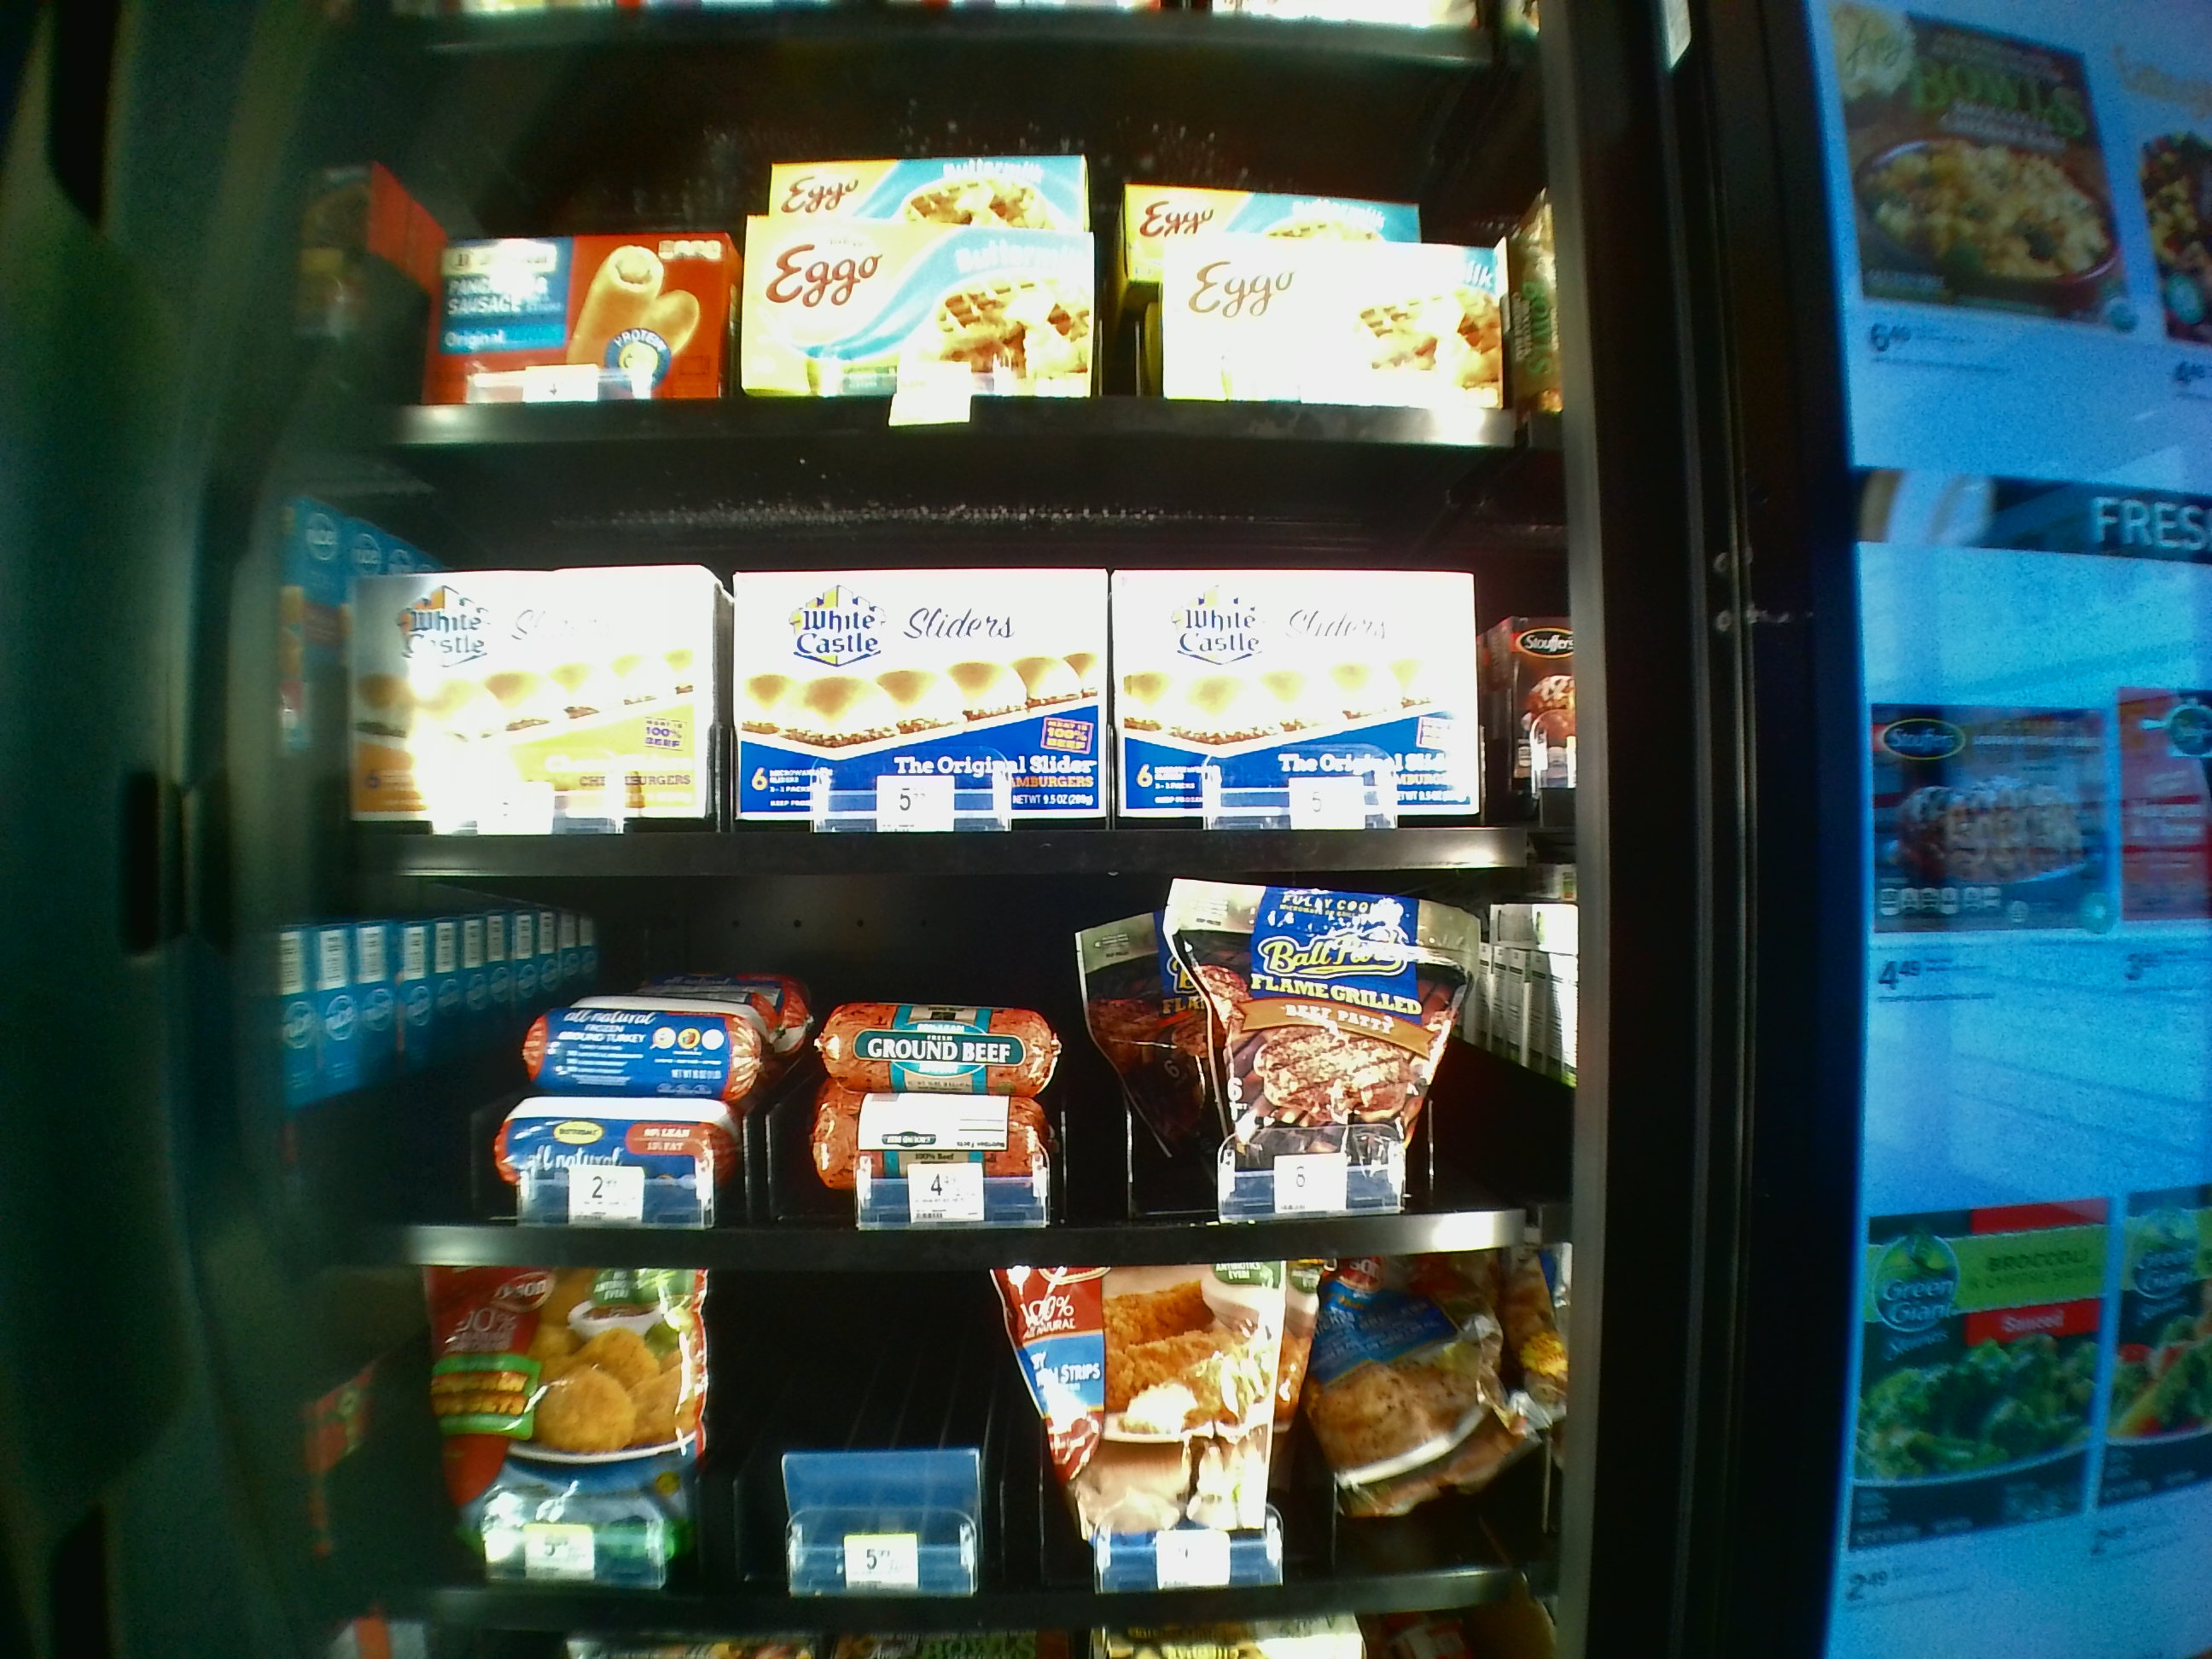shelf: (298, 450, 1559, 877), (298, 887, 1564, 1276), (301, 1288, 1561, 1629)
